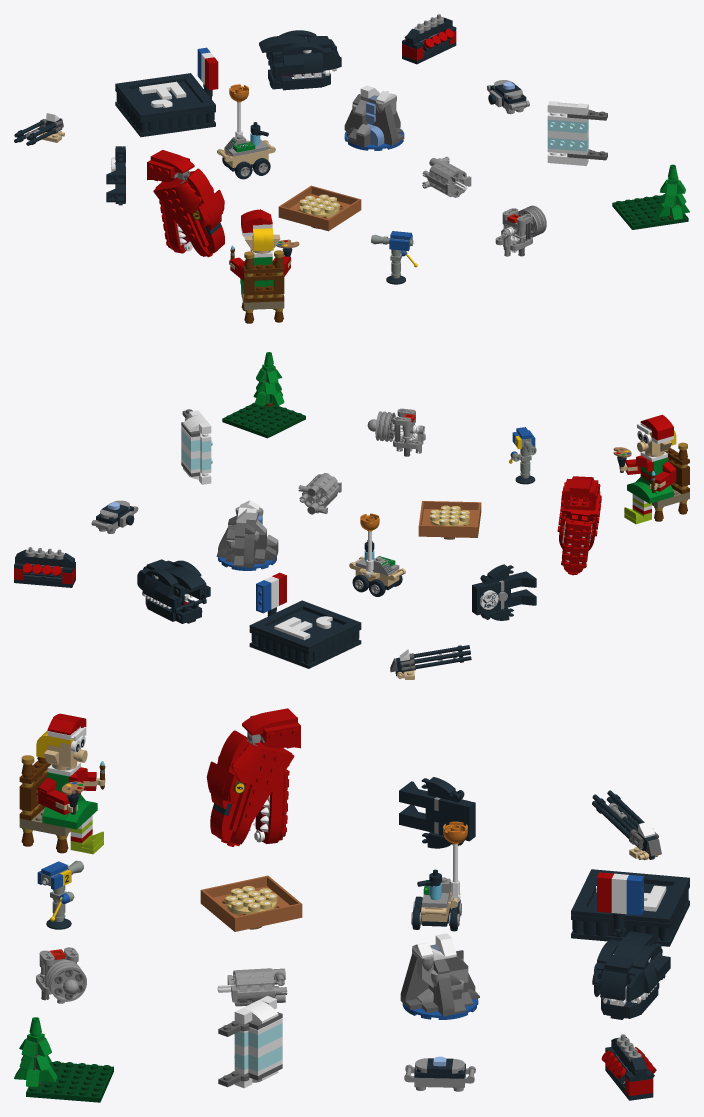
3 renders of one model, top to bottom at view 1: azimuth 30°, elevation 25°; view 2: azimuth 150°, elevation 25°; view 3: azimuth 270°, elevation 25°, orthographic. The views are drawn at different scales.
Parts seen in each view (by area): view 1: 4452, 3958, 54383, 30414 (×2), 4460b, 41539, 98585, 6636; view 2: 3958, 4452, 41539; view 3: 4452, 3958, 54384, 15068, 43723, 3622, 4185a, 4460b.
Boxes of the visible parts, bbox=[...] form: 4452: bbox=[278, 185, 361, 231]; 3958: bbox=[612, 194, 688, 229]; 54383: bbox=[153, 185, 199, 241]; 30414 (×2): bbox=[547, 119, 588, 151]; 4460b: bbox=[376, 104, 398, 141]; 41539: bbox=[115, 101, 215, 137]; 98585: bbox=[439, 167, 466, 197]; 6636: bbox=[147, 102, 206, 117]; 3958: bbox=[222, 402, 305, 438]; 4452: bbox=[418, 501, 481, 537]; 41539: bbox=[249, 639, 361, 668]; 4452: bbox=[200, 875, 302, 931]; 3958: bbox=[26, 1061, 113, 1102]; 54384: bbox=[239, 748, 294, 822]; 15068: bbox=[600, 970, 627, 1000]; 43723: bbox=[264, 723, 300, 748]; 3622: bbox=[626, 875, 643, 915]; 4185a: bbox=[49, 965, 86, 1001]; 4460b: bbox=[400, 953, 428, 1000].
Size of the model in its own units: 1050 by 216 by 1074.
